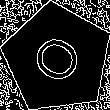O_SE: (25, 28, 89, 89)
